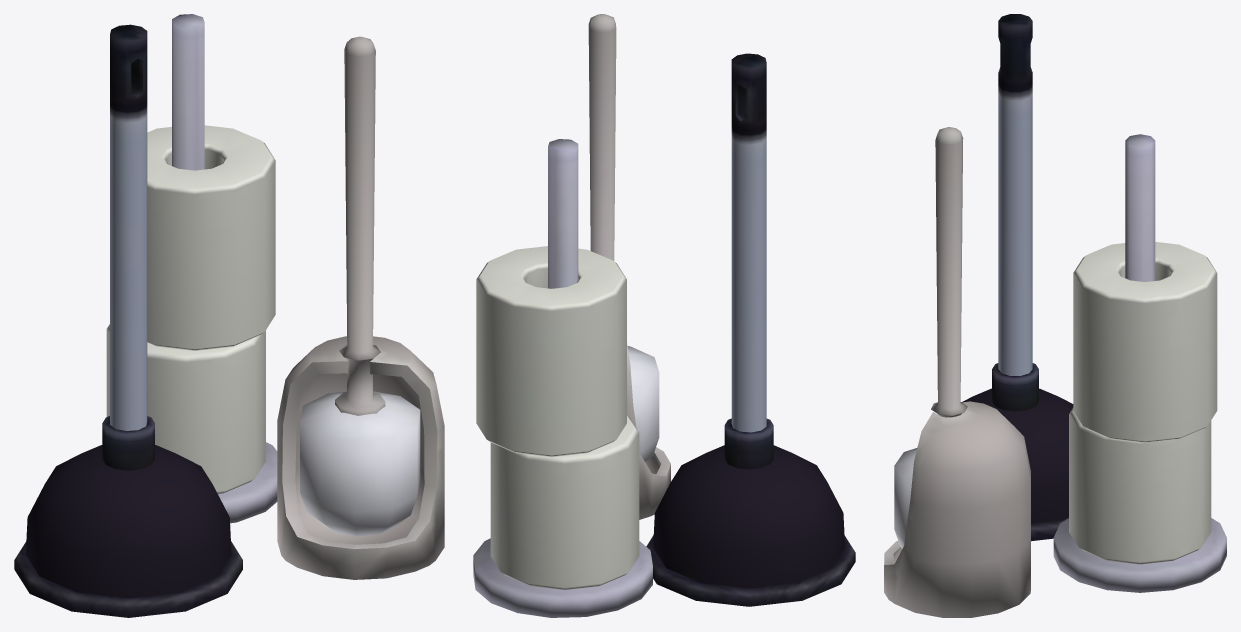
3 renders of one model, left to right at view 1: azimuth 30°, elevation 25°; view 2: azimuth 150°, elevation 25°; view 3: azimuth 270°, elevation 25°, orthographic. The views are drawn at different scales.
Bounding box in the file's own units: 6.48 × 8.98 × 5.82.
1 material, 1 textured.
